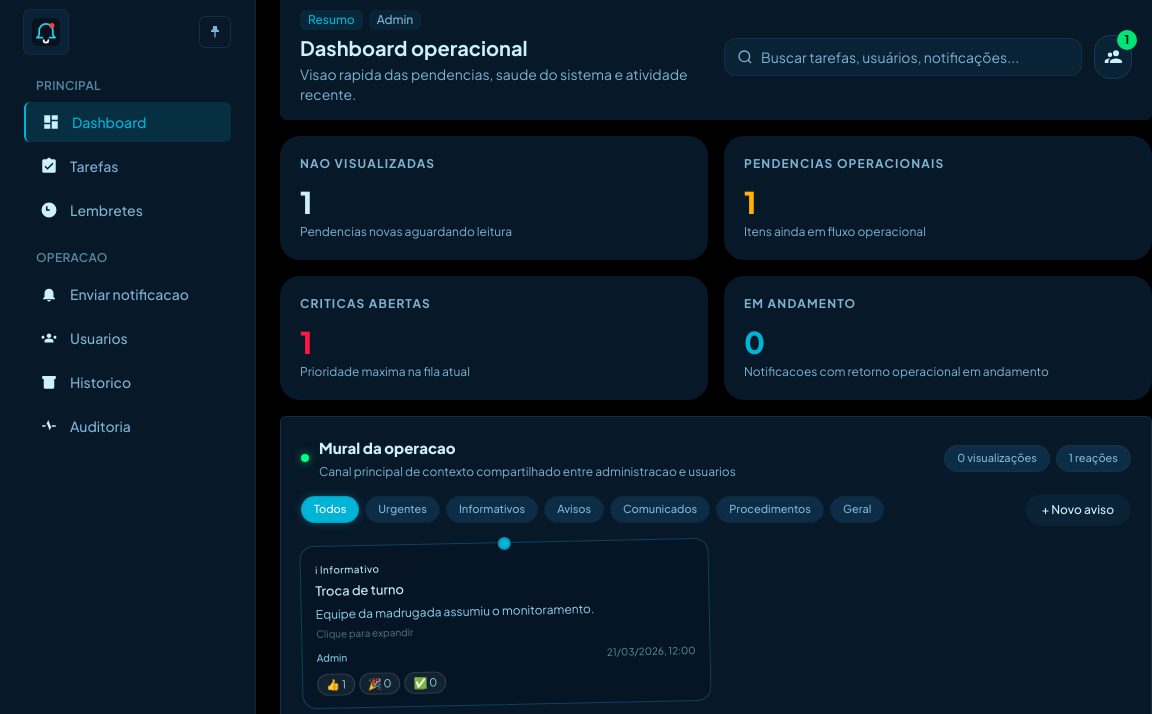
AdminDashboard › insere notificacao criada por socket sem recarregar listas
Type "nova critica" into the search field named "Busca global do admin". click: [915, 57]
box: [761, 47, 1068, 67]
(page scrolled)
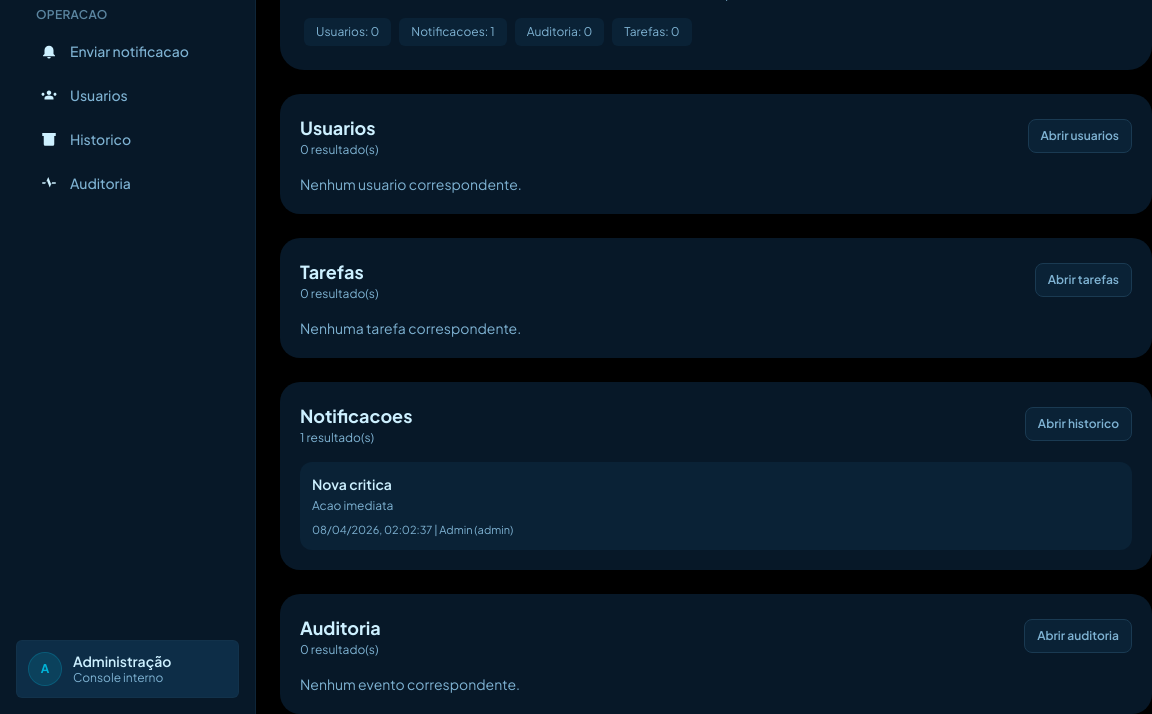
Result: the text "Nova critica" is shown at [312, 474, 392, 492]
